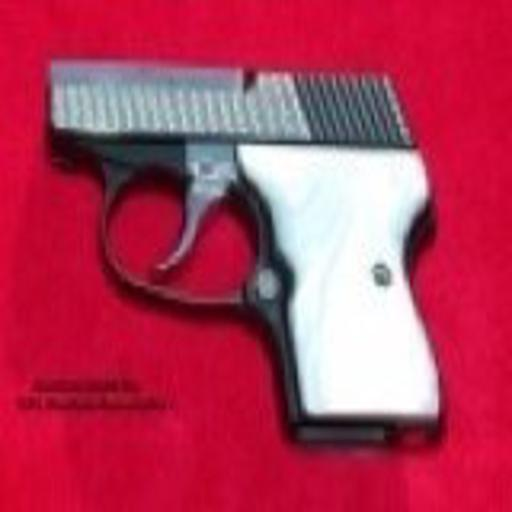Handgun: (40, 50, 456, 455)
